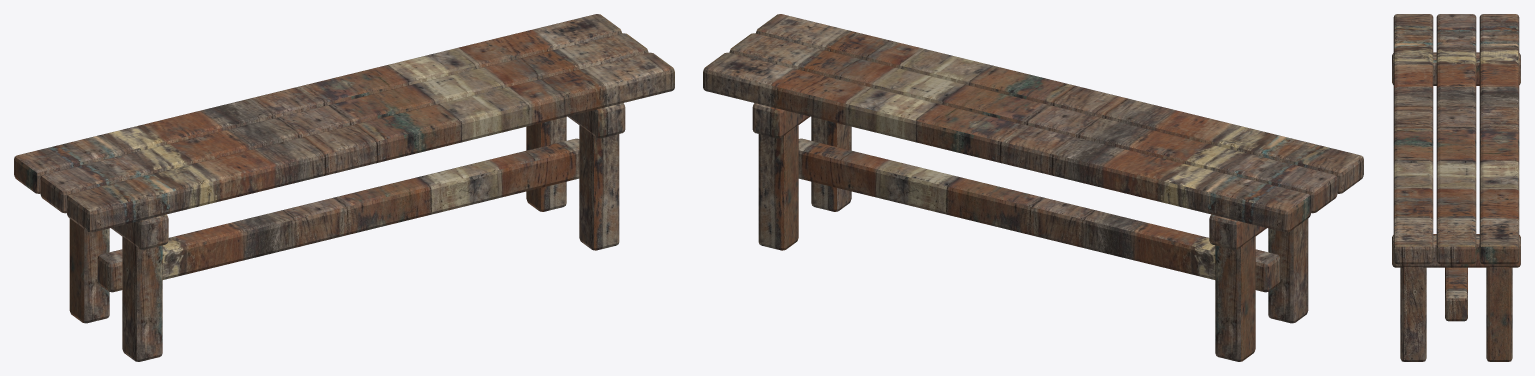
The model's file is spawn-b-bench.glb.
3 views of the same model, side by side, from view 1: azimuth 30°, elevation 25°; view 2: azimuth 150°, elevation 25°; view 3: azimuth 270°, elevation 25° (orthographic). The views are drawn at different scales.
Visible parts, largest first — view 1: Seat plank; view 2: Seat plank; view 3: Seat plank.
Part boxes in pixels (x1,y1,x2,y2): Seat plank: (14, 14, 674, 361); Seat plank: (703, 14, 1363, 361); Seat plank: (1392, 14, 1520, 361).
Size of the model in its own units: 1.8 by 0.495 by 0.42.
Materials: 1 (1 with a texture image).
